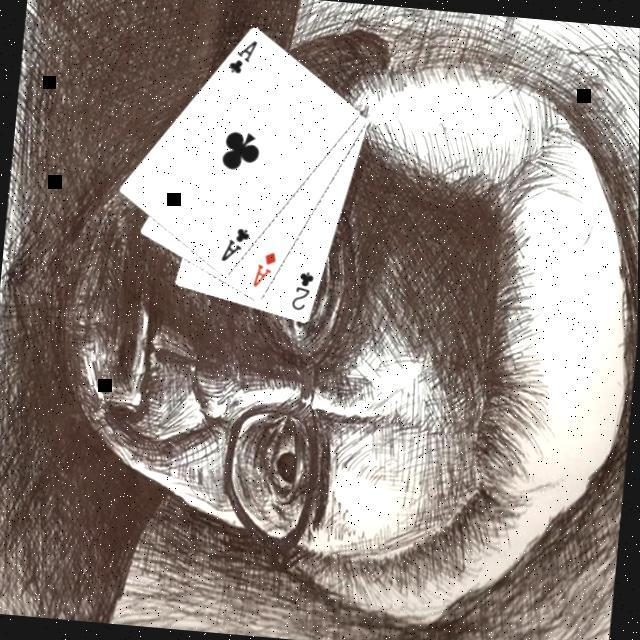2C: (290, 264, 320, 312)
AC: (218, 220, 255, 265), (226, 32, 262, 78)
AD: (251, 246, 283, 290)
